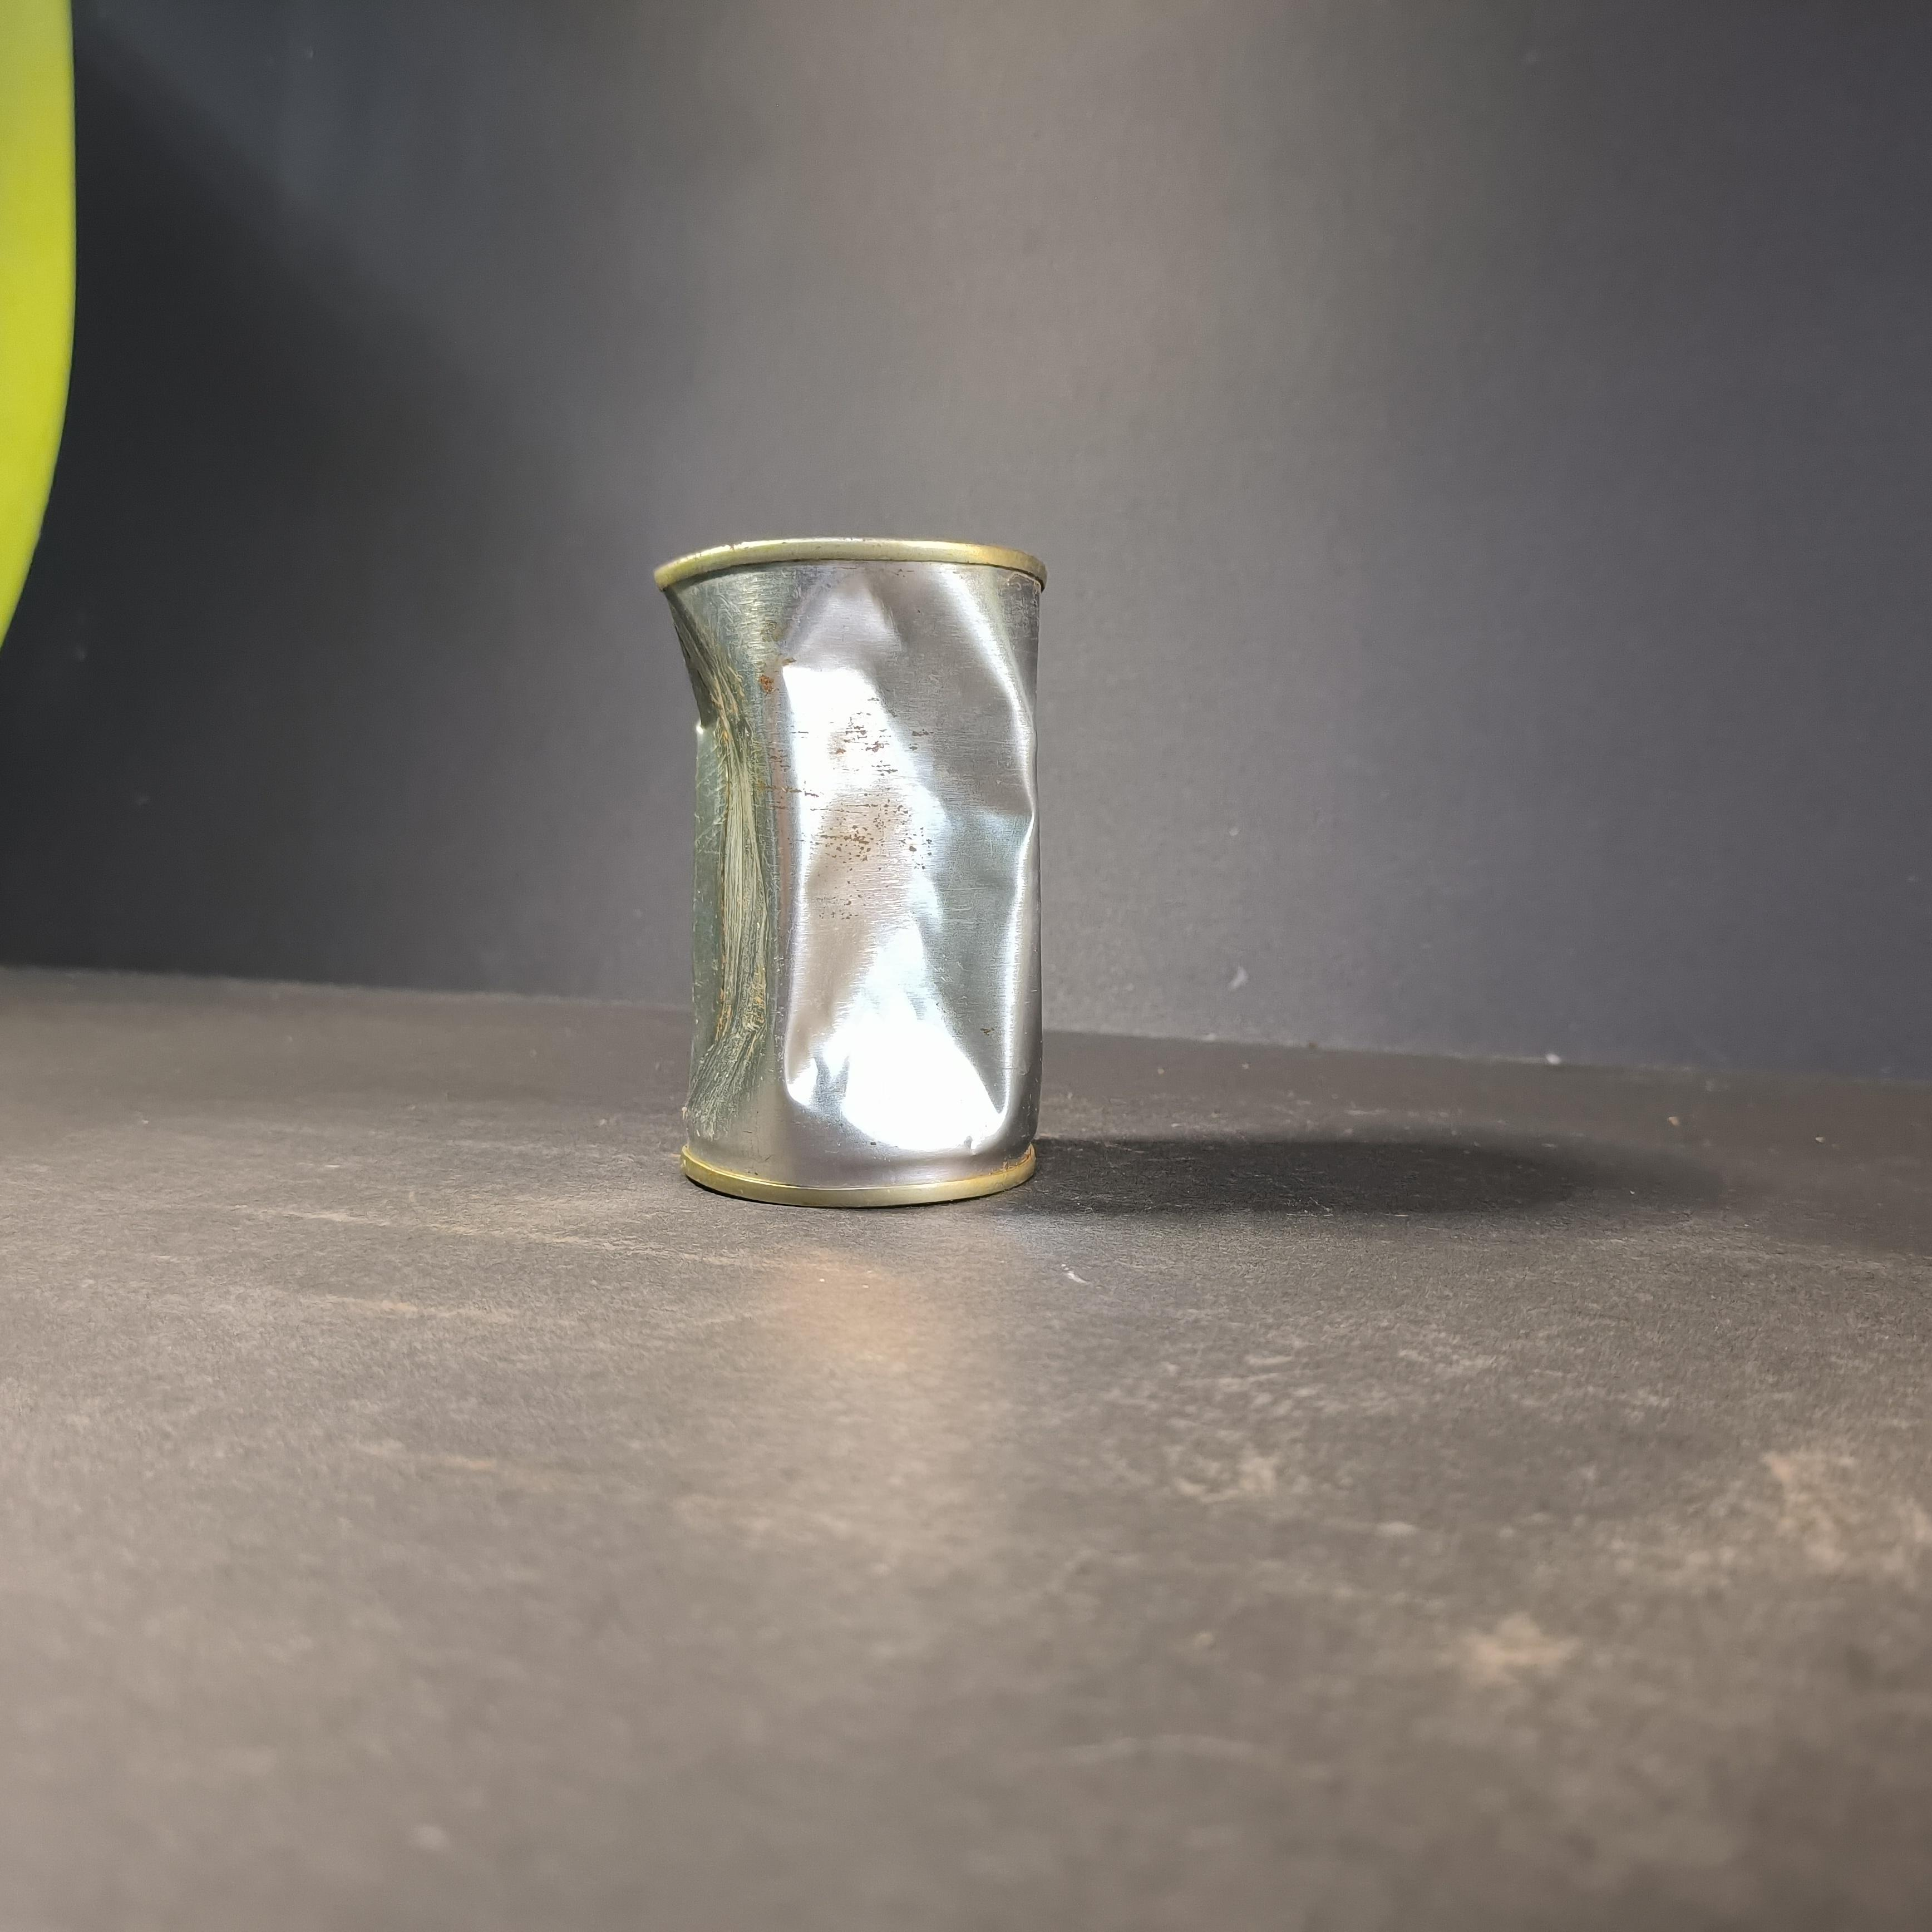Dented: (635, 495, 1077, 1238)
